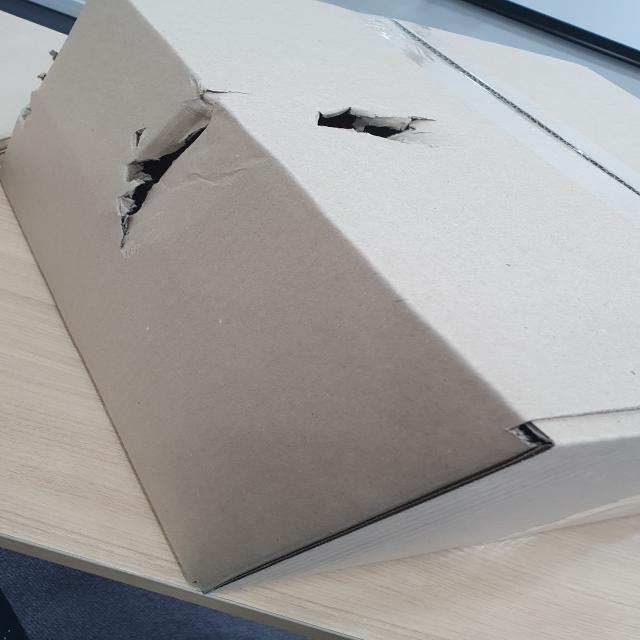hole: (120, 111, 220, 229), (303, 108, 447, 145)
